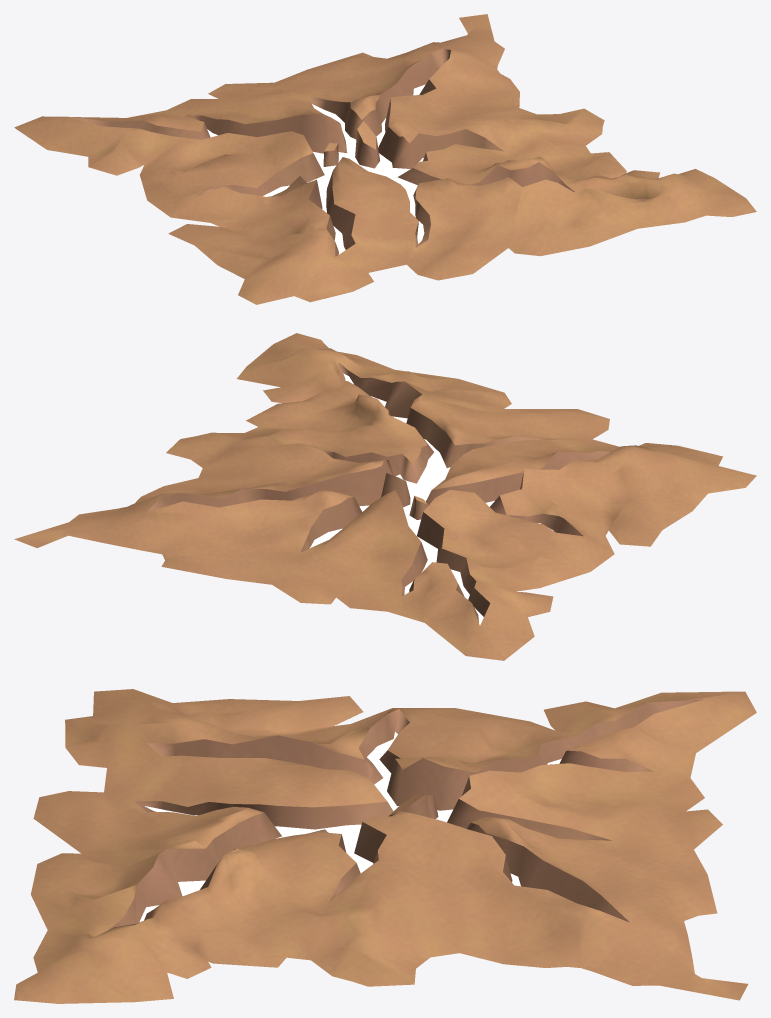
The model's file is ground-iron-ore.glb.
3 views of the same model, one above another, from view 1: azimuth 30°, elevation 25°; view 2: azimuth 150°, elevation 25°; view 3: azimuth 270°, elevation 25° (orthographic). The views are drawn at different scales.
Parts seen in each view (by area): view 1: Plane.002, tie; view 2: Plane.002, tie; view 3: Plane.002, tie.
Boxes of the visible parts, <box> form: Plane.002: <box>14,14,756,304</box>; tie: <box>207,84,425,254</box>; Plane.002: <box>14,333,756,660</box>; tie: <box>309,373,553,625</box>; Plane.002: <box>14,689,756,1003</box>; tie: <box>139,732,561,922</box>.
Bounding box in the file's own units: 71.9 × 5.45 × 71.68.
Materials: 2 (1 with a texture image).
